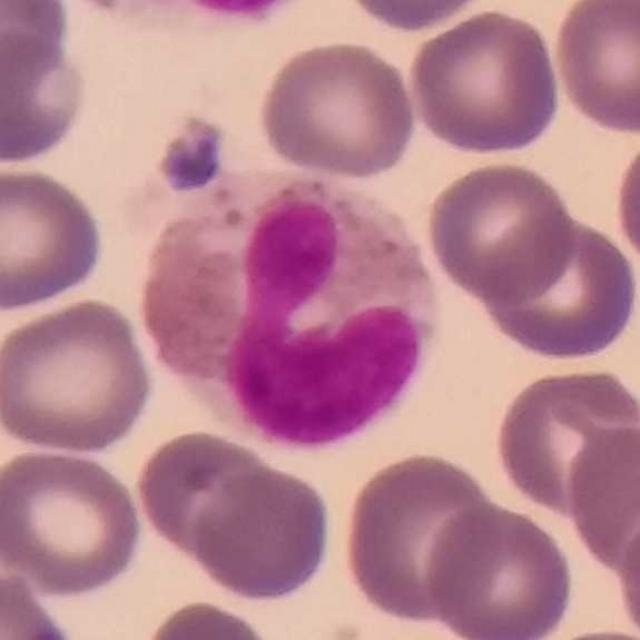Eosinophil: (141, 163, 445, 449)
Platelets: (155, 116, 227, 195)
RBC: (337, 447, 504, 628), (475, 210, 640, 365), (0, 295, 157, 457), (255, 36, 421, 182), (405, 6, 564, 158), (489, 362, 640, 521), (422, 157, 579, 305), (0, 444, 147, 599), (131, 425, 284, 570), (422, 498, 578, 640), (189, 462, 335, 605), (0, 161, 109, 315), (0, 25, 91, 169), (550, 0, 640, 138), (562, 421, 640, 580), (136, 596, 287, 640), (0, 0, 76, 87), (87, 0, 296, 28), (0, 565, 77, 640), (337, 0, 498, 33), (610, 124, 640, 284), (613, 503, 640, 640), (523, 624, 638, 640)
